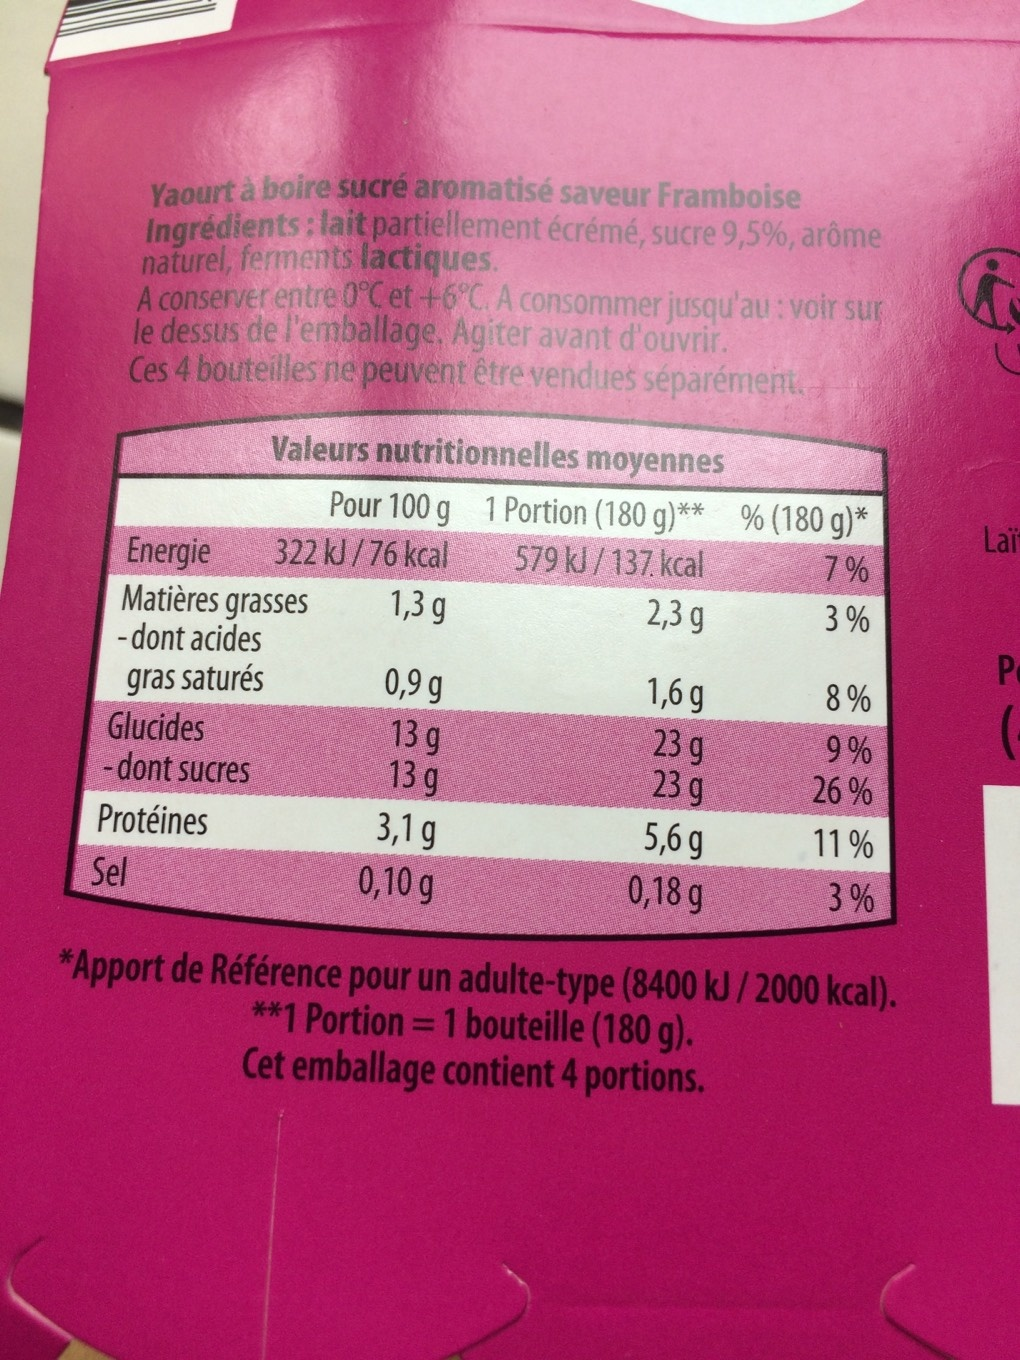column: (87, 465, 454, 945), (485, 474, 708, 945), (745, 479, 877, 942)
table: (67, 409, 907, 943)
